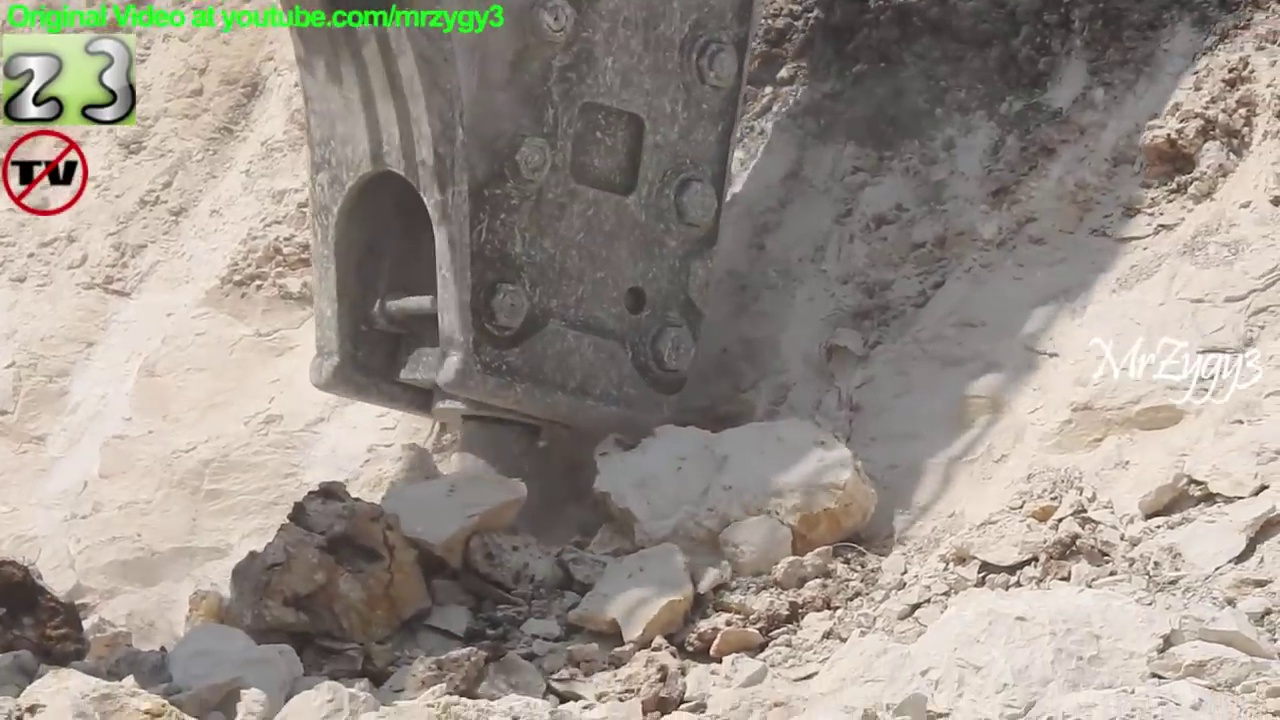excavator: (269, 1, 775, 578)
